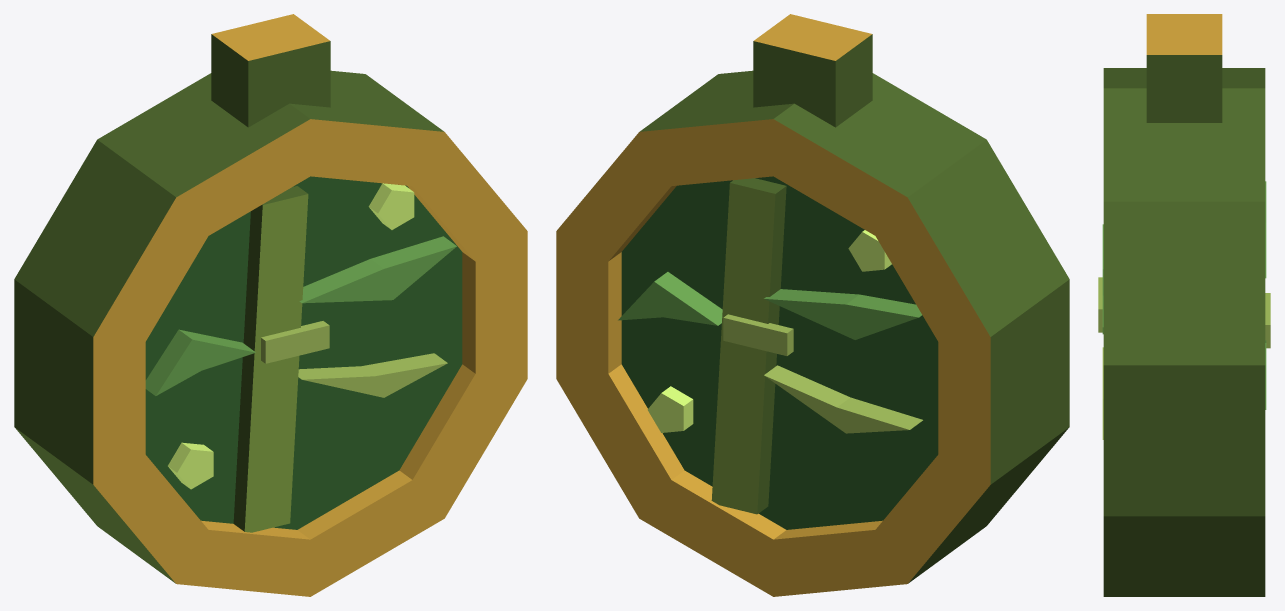
The model's file is key_seal_bamboo.fbx.
The picture shows the model from 3 angles, left to right: view 1: azimuth 30°, elevation 25°; view 2: azimuth 150°, elevation 25°; view 3: azimuth 270°, elevation 25°; orthographic projection. The views are drawn at different scales.
Parts seen in each view (by area): view 1: key_seal_bamboo; view 2: key_seal_bamboo; view 3: key_seal_bamboo.
Part boxes in pixels (x1=…): key_seal_bamboo: x1=14, y1=14, x2=527, y2=596; key_seal_bamboo: x1=556, y1=14, x2=1069, y2=596; key_seal_bamboo: x1=1098, y1=14, x2=1270, y2=596.
Size of the model in its own units: 0.4755 by 0.555 by 0.16.
